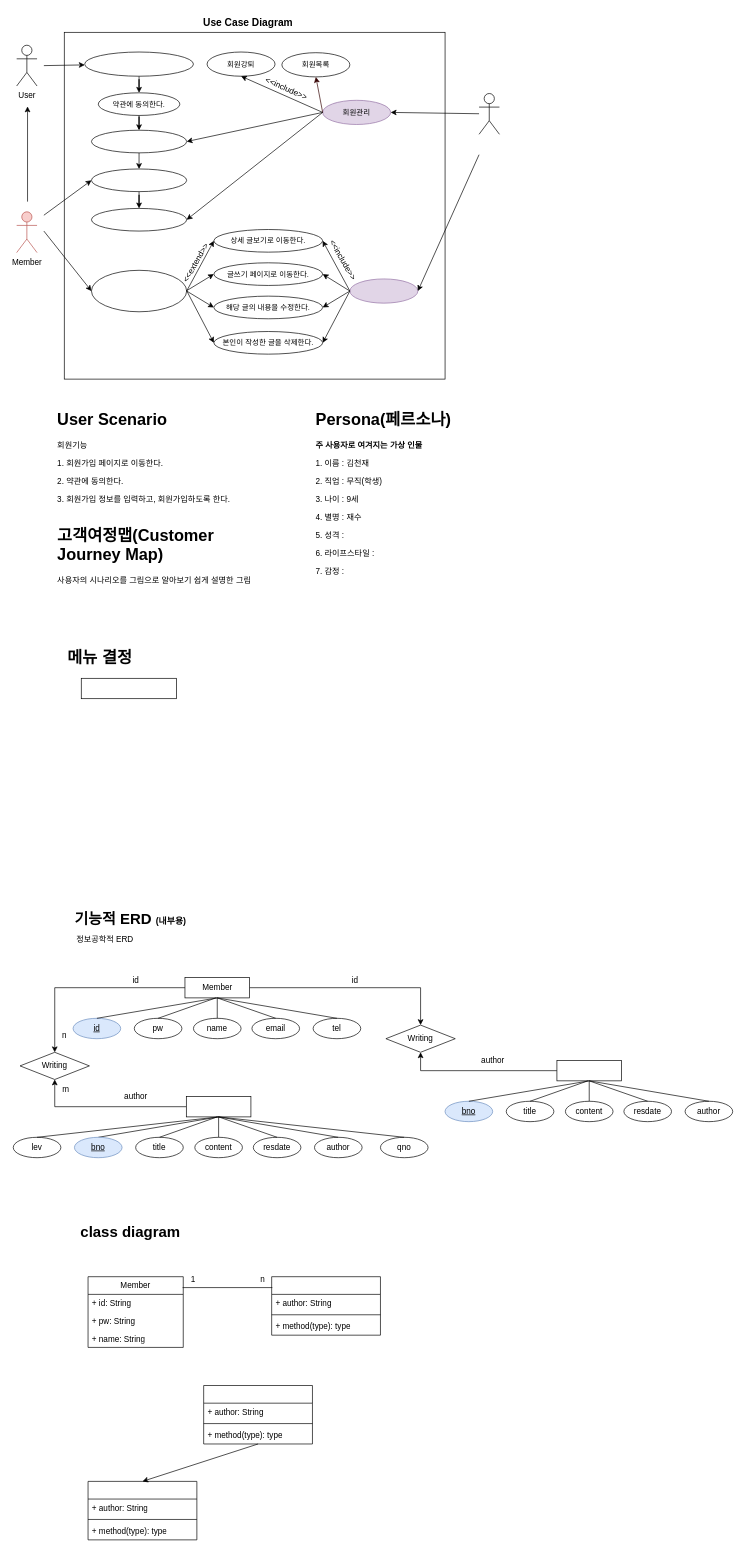
The diagram is 745 pixels wide and 1553 high, and some of its shapes have lost their labels. The box of each missing label's shape, as (x1, y1, x2, y2) in pixels:
administrator: (478, 93, 499, 134)
Board: (271, 1276, 380, 1335)
DBC: (203, 1385, 312, 1444)
MariaDBC: (87, 1481, 197, 1540)
Notice: (556, 1060, 622, 1081)
Qna: (186, 1096, 251, 1117)
게시판 관리: (349, 278, 418, 303)
게시판 글목록 페이지로 이동한다.: (91, 270, 187, 312)
로그인 정보를 입력한다.: (91, 208, 187, 231)
로그인 페이지로 이동한다.: (91, 168, 187, 192)
회사소개: (81, 678, 176, 699)
회원가입 페이지로 이동한다.: (84, 51, 193, 76)
회원정보를 입력한다.: (91, 130, 187, 153)
